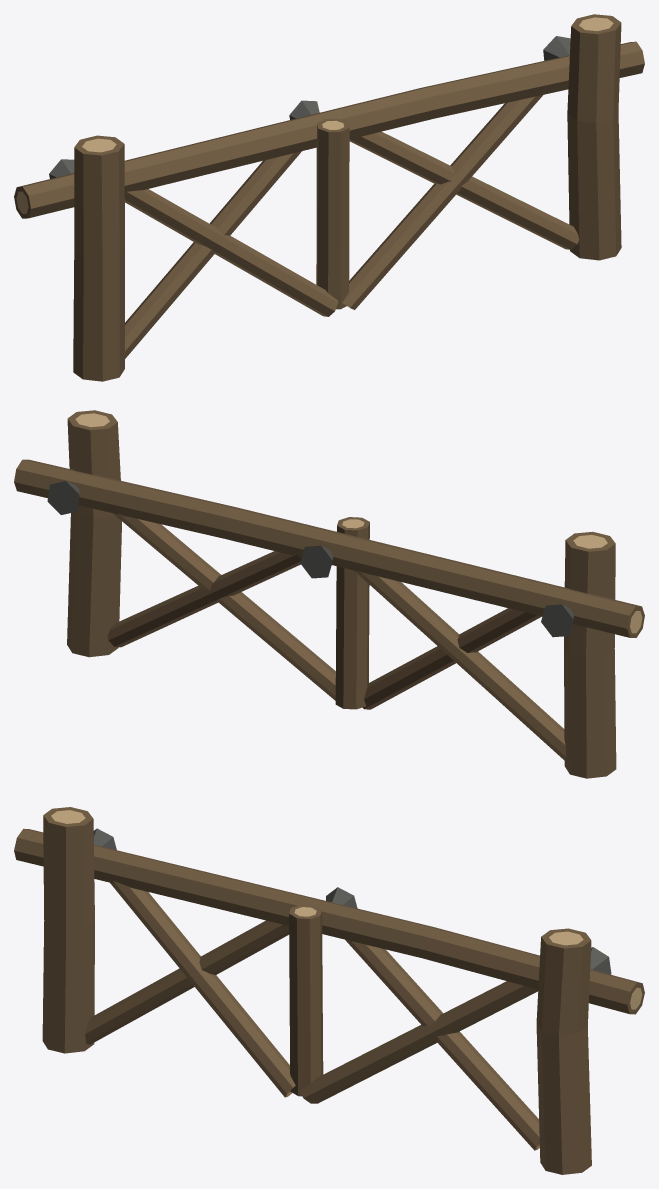
The model's file is rpgpp_ag_wall_platform_02_handrail_01b_4m.fbx.
3 renders of one model, top to bottom at view 1: azimuth 30°, elevation 25°; view 2: azimuth 150°, elevation 25°; view 3: azimuth 330°, elevation 25°, orthographic.
Visible parts, largest first — view 1: rpgpp_ag_wall_platform_02_handrail_01b_4m; view 2: rpgpp_ag_wall_platform_02_handrail_01b_4m; view 3: rpgpp_ag_wall_platform_02_handrail_01b_4m.
Part boxes in pixels (x1,y1,x2,y2): rpgpp_ag_wall_platform_02_handrail_01b_4m: [14, 14, 644, 381]; rpgpp_ag_wall_platform_02_handrail_01b_4m: [14, 410, 644, 778]; rpgpp_ag_wall_platform_02_handrail_01b_4m: [14, 807, 644, 1174].
Bounding box in the file's own units: 4.39 × 1.54 × 0.5822.
